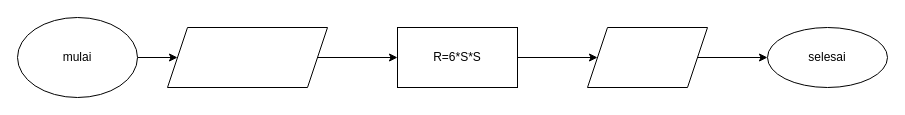
Some shapes in this 905 by 115 pixel diagram are drawn without their labels. Here are the shapes that lost their labels. From the top down, the box of each, then its label:
(166, 26, 328, 88): input rumus
(586, 26, 708, 88): output hasil
